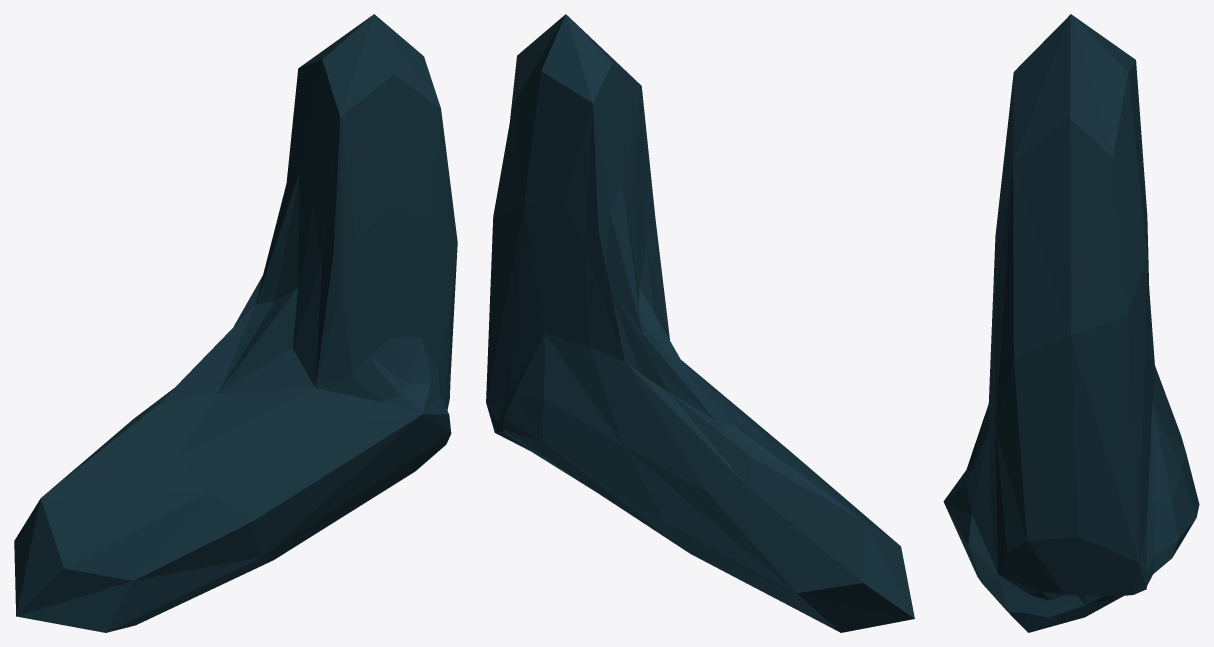
3 renders of one model, left to right at view 1: azimuth 30°, elevation 25°; view 2: azimuth 150°, elevation 25°; view 3: azimuth 270°, elevation 25°, orthographic. The views are drawn at different scales.
Parts seen in each view (by area): view 1: 440_Cube.1783; view 2: 440_Cube.1783; view 3: 440_Cube.1783.
Boxes of the visible parts, box(x1,y1,x2,y2) form: 440_Cube.1783: box(14, 14, 457, 632); 440_Cube.1783: box(486, 14, 914, 632); 440_Cube.1783: box(943, 14, 1199, 632).
Size of the model in its own units: 12.76 by 15.88 by 5.05.
